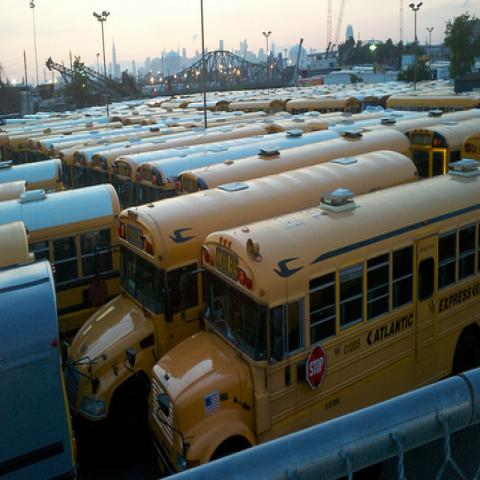bus: (65, 148, 479, 474), (0, 181, 122, 340), (177, 126, 412, 197), (1, 263, 76, 475), (133, 126, 326, 205), (108, 134, 260, 208), (89, 123, 266, 182), (406, 114, 479, 180), (71, 138, 140, 189), (0, 158, 64, 200), (386, 91, 480, 112), (59, 142, 103, 174), (286, 96, 360, 115)
